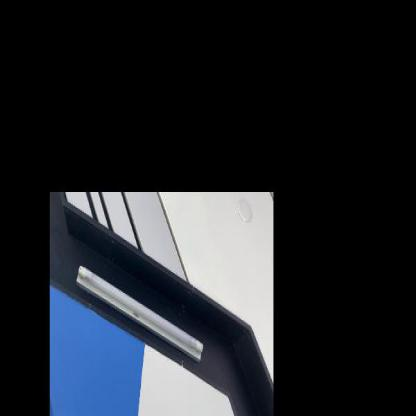light_off: (73, 256, 209, 382)
